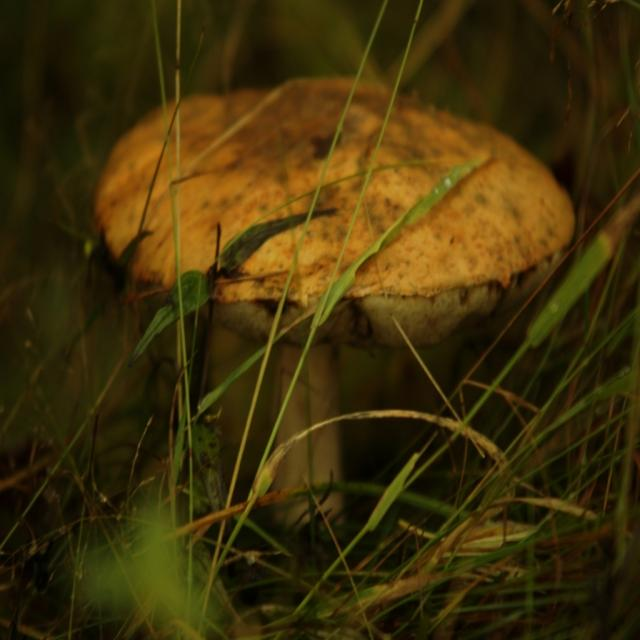Mushroom: (94, 63, 586, 545)
